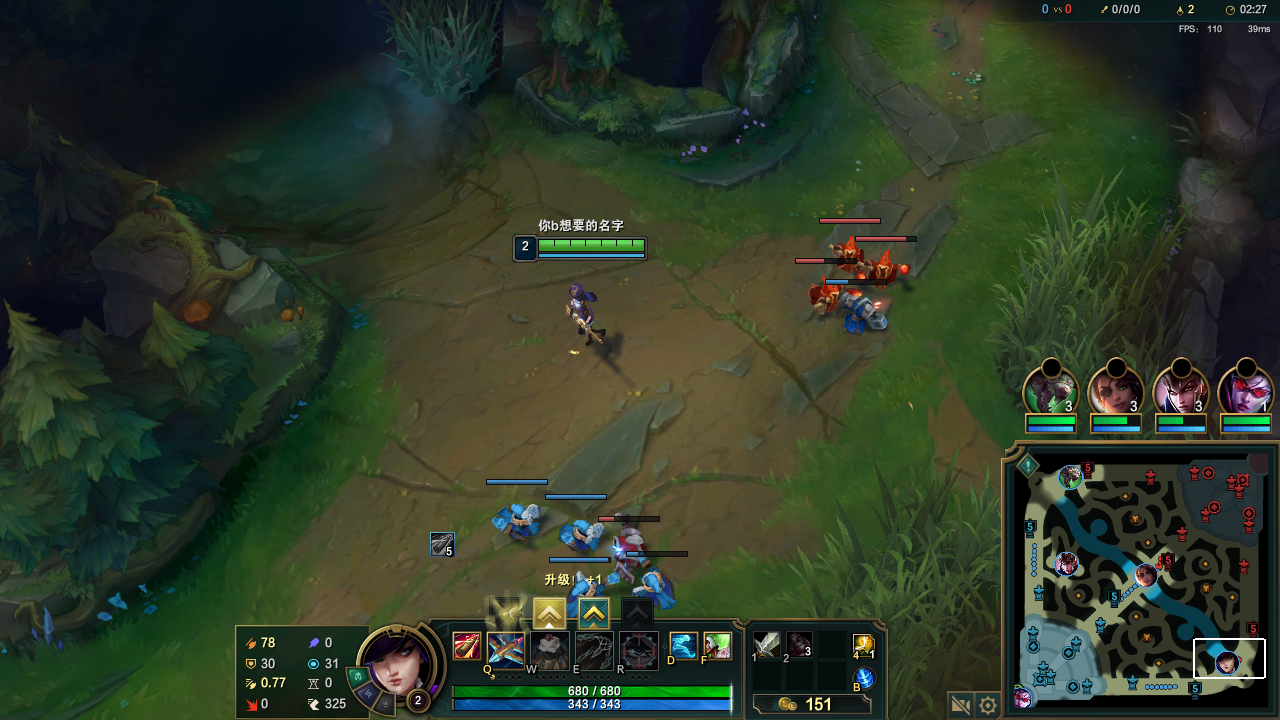DFXB: (618, 530, 644, 565), (869, 257, 903, 279), (836, 240, 863, 267), (816, 277, 837, 308)
Shenji: (578, 597, 608, 624)
Tuijianshengji: (537, 597, 562, 629)
WFXB: (845, 297, 887, 330), (495, 497, 531, 535), (564, 524, 593, 549), (642, 578, 672, 600)
Yita: (1186, 676, 1204, 700)
